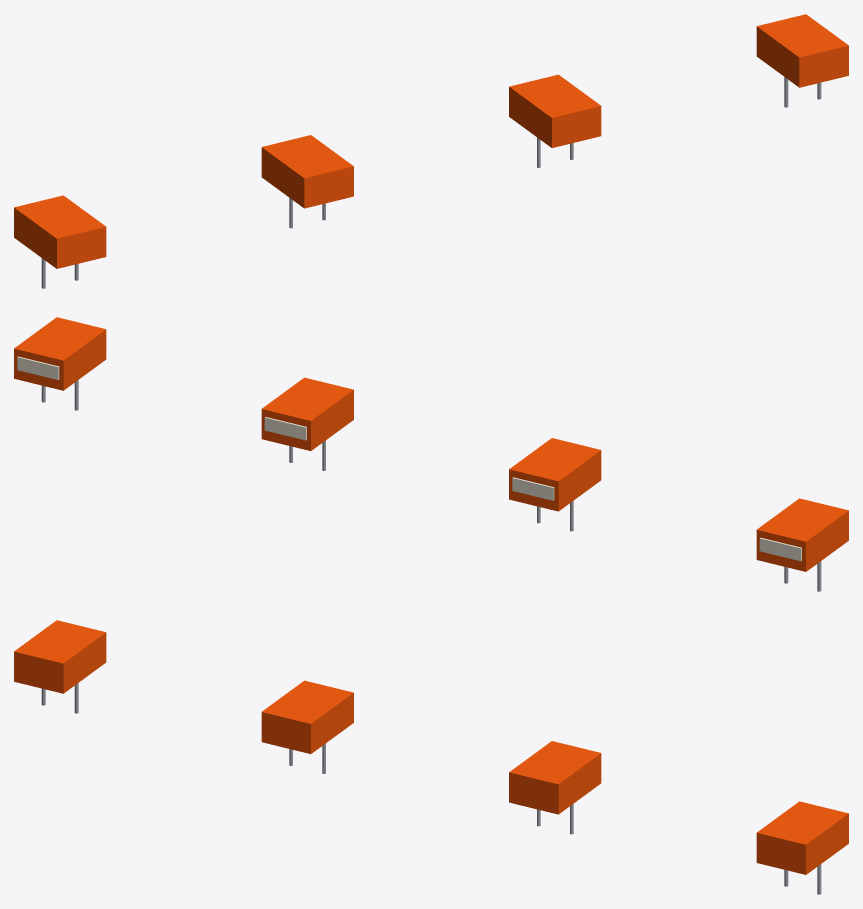
File: airport.airside.papi.glb
3 views of the same model, one above another, from view 1: azimuth 30°, elevation 25°; view 2: azimuth 150°, elevation 25°; view 3: azimuth 330°, elevation 25° (orthographic).
Parts seen in each view (by area): view 1: main__hivis_orange, main__steel_galvanised; view 2: main__hivis_orange, main__light_emitter, main__steel_galvanised; view 3: main__hivis_orange, main__steel_galvanised.
Part boxes in pixels (x1,y1,x2,y2): main__hivis_orange: (14, 14, 848, 268); main__steel_galvanised: (41, 77, 821, 288); main__hivis_orange: (14, 317, 848, 571); main__light_emitter: (17, 356, 801, 561); main__steel_galvanised: (41, 380, 821, 591); main__hivis_orange: (14, 620, 848, 874); main__steel_galvanised: (41, 683, 821, 894).
Bounding box in the file's own units: 9.6 × 0.775 × 0.92.
